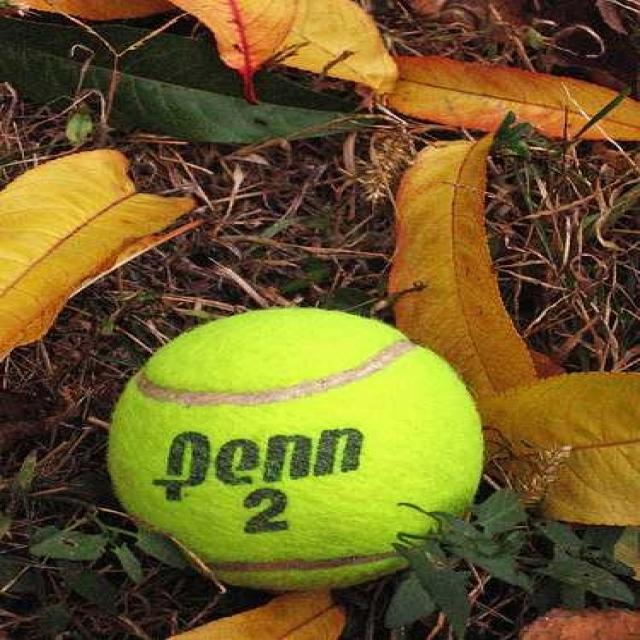Tennis_Ball: (111, 306, 478, 590)
